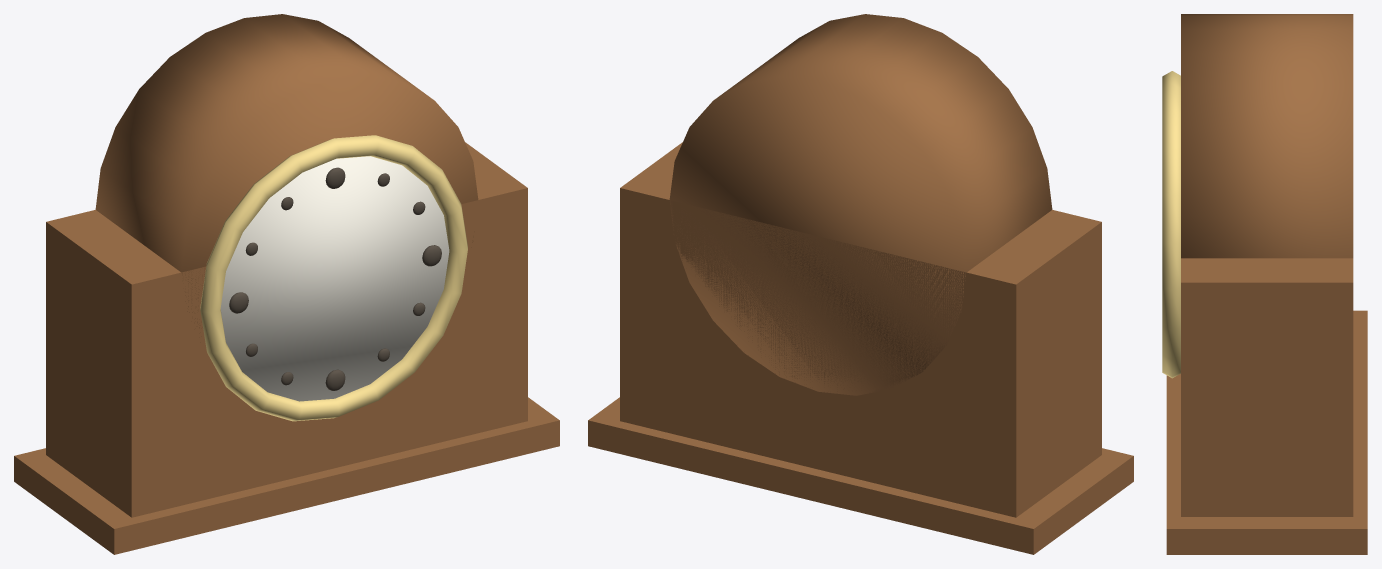
The model's file is mantel_clock.glb.
3 views of the same model, side by side, from view 1: azimuth 30°, elevation 25°; view 2: azimuth 150°, elevation 25°; view 3: azimuth 270°, elevation 25° (orthographic).
Visible parts, largest first — view 1: mantel_clock; view 2: mantel_clock; view 3: mantel_clock.
Boxes of the visible parts, x1,y1,x2,y2 form: mantel_clock: (14, 14, 559, 554); mantel_clock: (588, 14, 1133, 554); mantel_clock: (1162, 14, 1367, 554).
Bounding box in the file's own units: 0.36 × 0.34 × 0.1429.
